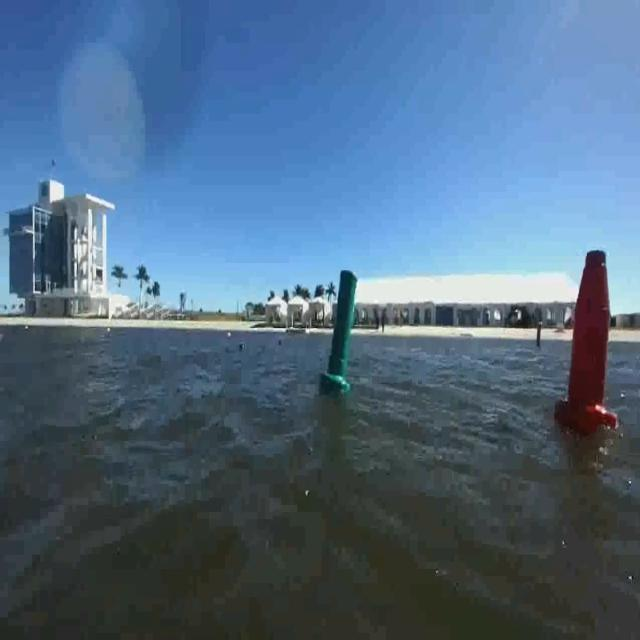green-column-buoy: (324, 268, 359, 394)
red-column-buoy: (557, 247, 618, 433)
